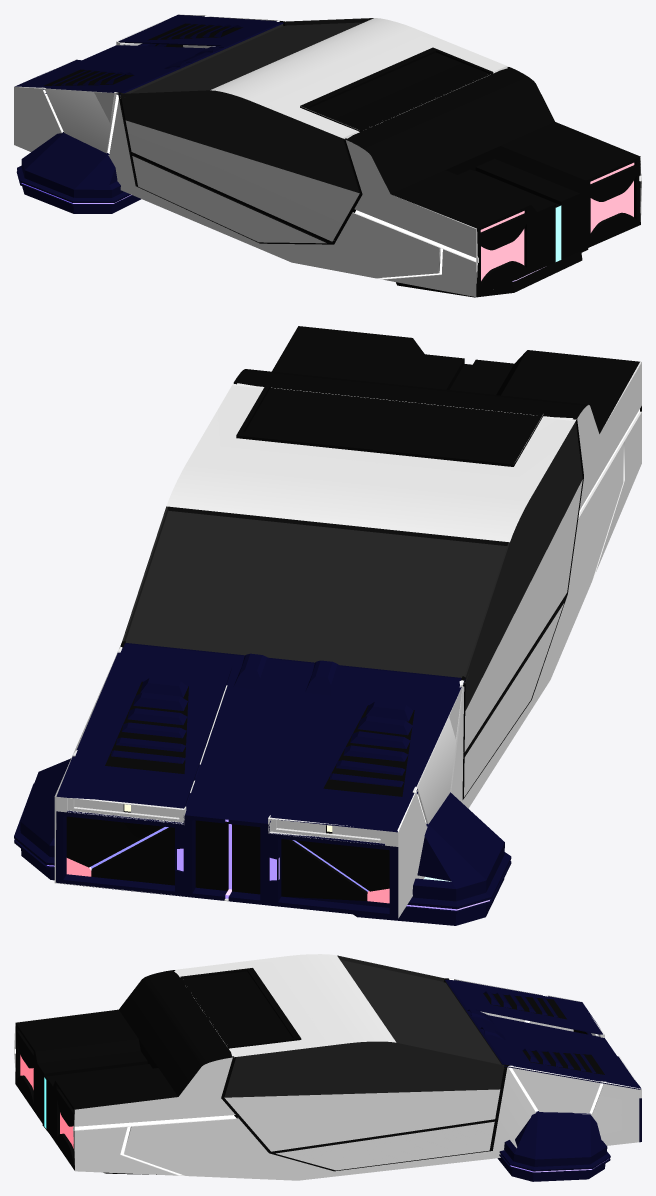
The model's file is kart3.glb.
3 renders of one model, top to bottom at view 1: azimuth 30°, elevation 25°; view 2: azimuth 150°, elevation 25°; view 3: azimuth 270°, elevation 25°, orthographic. The views are drawn at different scales.
Visible parts, largest first — view 1: Cube.012_5, Cube.001_0, Cube.006_2, Cube.038_29, Cube.011_4, Cube.014_6, Cube.007_3, Cube.015_7, Cube.022_14, Cube.035_27; view 2: Cube.012_5, Cube.011_4, Cube.014_6, Cube.016_8, Cube.001_0, Cube.015_7, Cube.038_29, Cube.017_9, Cube.022_14, Cube.037_28, Cube.018_10, Cube.019_11 (+2 smaller); view 3: Cube.012_5, Cube.001_0, Cube.011_4, Cube.037_28, Cube.014_6, Cube.015_7, Cube.006_2, Cube.022_14, Cube.007_3.
Part boxes in pixels (<box>): Cube.012_5: <box>14,14,641,296</box>; Cube.001_0: <box>391,122,640,228</box>; Cube.006_2: <box>476,157,640,296</box>; Cube.038_29: <box>16,132,141,213</box>; Cube.011_4: <box>119,22,363,97</box>; Cube.014_6: <box>15,14,283,94</box>; Cube.007_3: <box>531,191,585,272</box>; Cube.015_7: <box>82,45,230,70</box>; Cube.022_14: <box>44,23,242,85</box>; Cube.035_27: <box>396,248,588,297</box>; Cube.012_5: <box>54,361,641,918</box>; Cube.011_4: <box>125,506,508,683</box>; Cube.014_6: <box>56,643,465,832</box>; Cube.016_8: <box>56,810,398,918</box>; Cube.001_0: <box>272,326,639,433</box>; Cube.015_7: <box>185,654,350,823</box>; Cube.038_29: <box>353,792,511,925</box>; Cube.017_9: <box>183,815,269,905</box>; Cube.022_14: <box>105,681,414,796</box>; Cube.037_28: <box>14,758,190,880</box>; Cube.018_10: <box>56,796,398,846</box>; Cube.019_11: <box>74,799,380,838</box>; Cube.012_5: <box>14,954,641,1180</box>; Cube.001_0: <box>16,1009,177,1109</box>; Cube.011_4: <box>340,960,505,1068</box>; Cube.037_28: <box>497,1111,610,1181</box>; Cube.014_6: <box>445,979,641,1089</box>; Cube.015_7: <box>464,1008,616,1055</box>; Cube.006_2: <box>15,1023,74,1170</box>; Cube.022_14: <box>483,993,604,1074</box>; Cube.007_3: <box>35,1061,55,1141</box>.
Bounding box in the file's own units: 1.59 × 0.6749 × 2.54.
